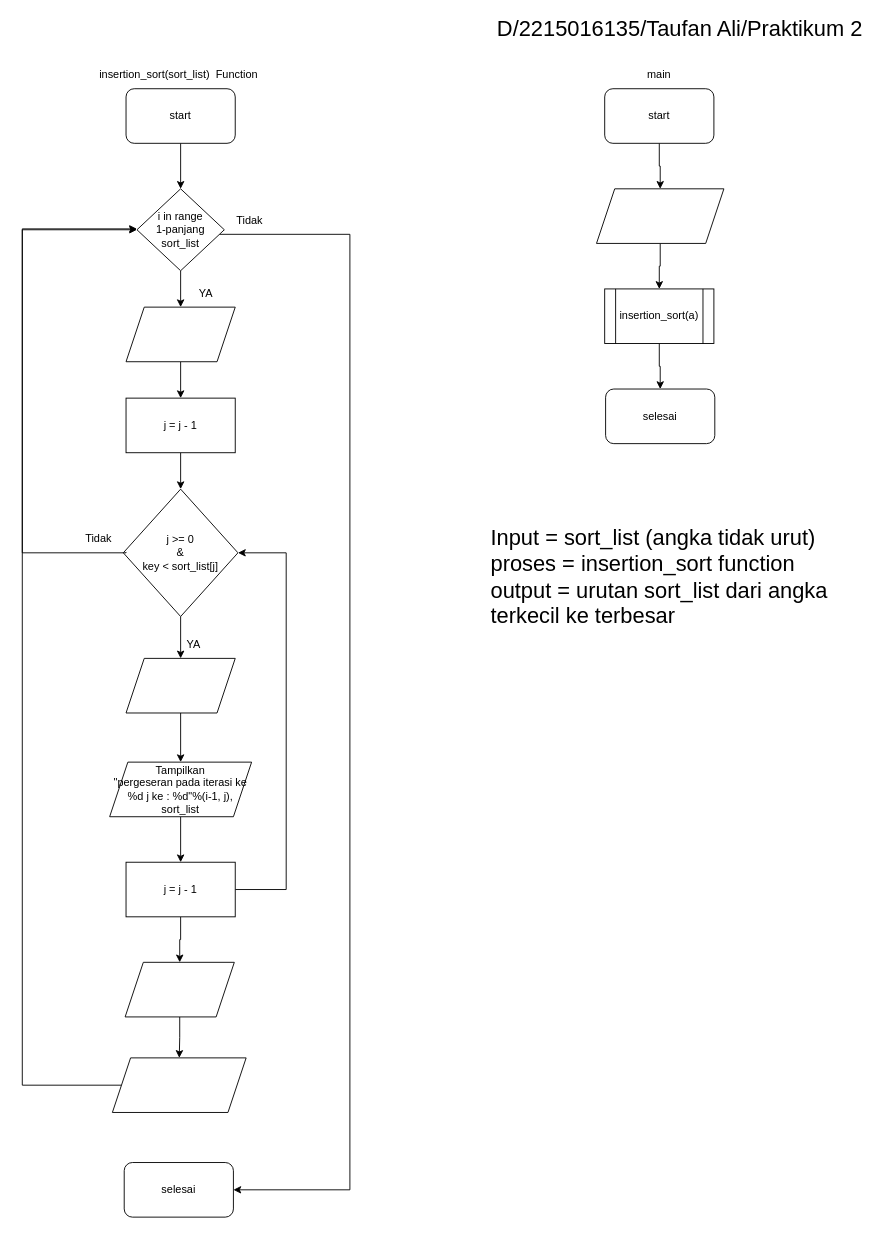
The diagram is 884 pixels wide and 1233 high, and some of its shapes have lost their labels. The shapes that lost their labels are listed below. From the top down, each one's centre as x and y in pixels, then its label:
(660,215): a = [4,3,5,6,2,78,98
(180,334): key = sort_list
(180,685): sort_list[j+1} = sort_list[j]
(179,989): sort_liist[j+1] = key
(178,1084): tampilkan "iterasi", i-1, sort_list
